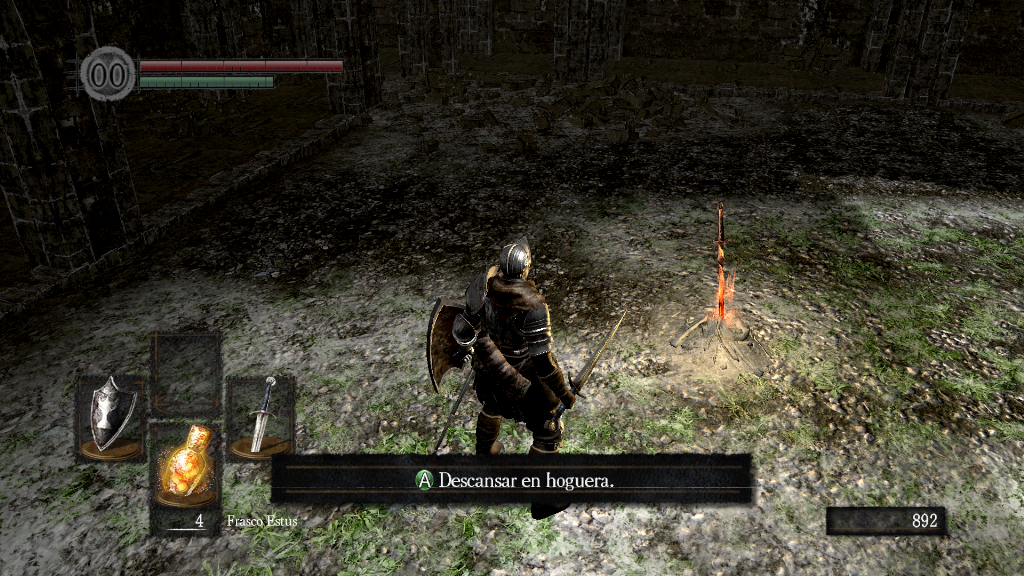bonfire: (661, 201, 779, 369)
dialogBox: (270, 453, 755, 507)
health: (138, 58, 343, 71)
humanity: (80, 45, 136, 102)
player: (426, 234, 629, 520)
souls: (825, 506, 945, 536)
stamina: (138, 74, 274, 88)
